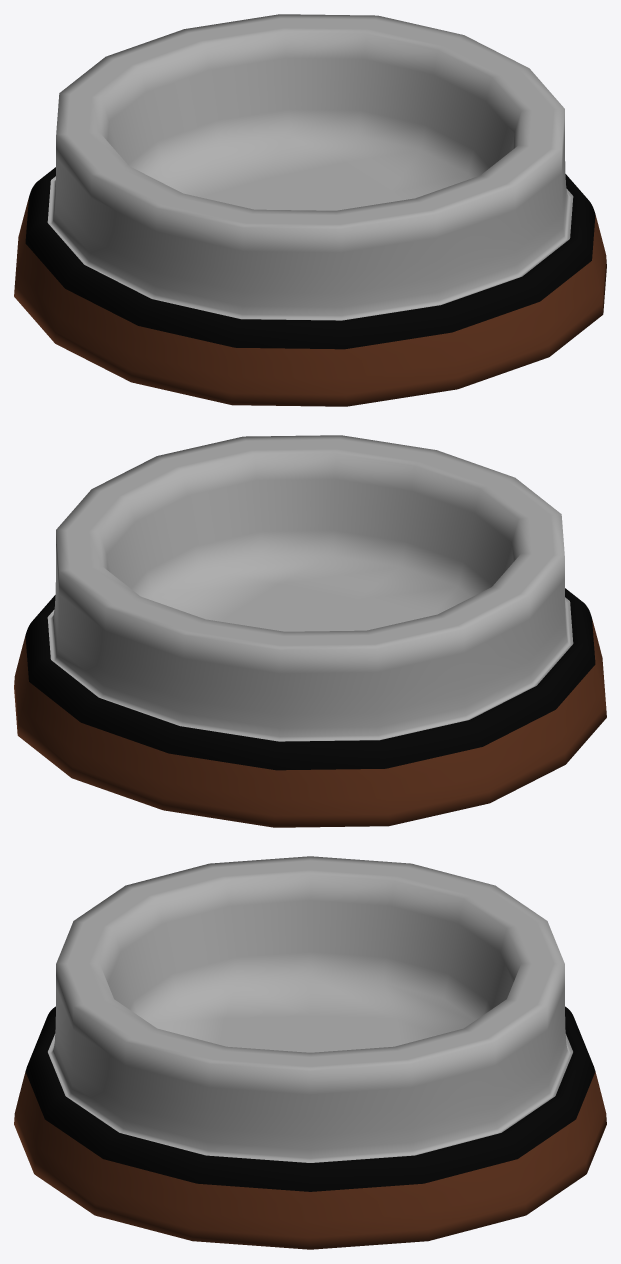
File: dogbowl.glb
3 renders of one model, top to bottom at view 1: azimuth 30°, elevation 25°; view 2: azimuth 150°, elevation 25°; view 3: azimuth 270°, elevation 25°, orthographic.
Visible parts, largest first — view 1: dogbowl; view 2: dogbowl; view 3: dogbowl.
Boxes of the visible parts, x1,y1,x2,y2 form: dogbowl: (14, 14, 606, 406); dogbowl: (14, 435, 606, 827); dogbowl: (14, 856, 606, 1249).
Size of the model in its own units: 1.14 by 0.346 by 1.14.
